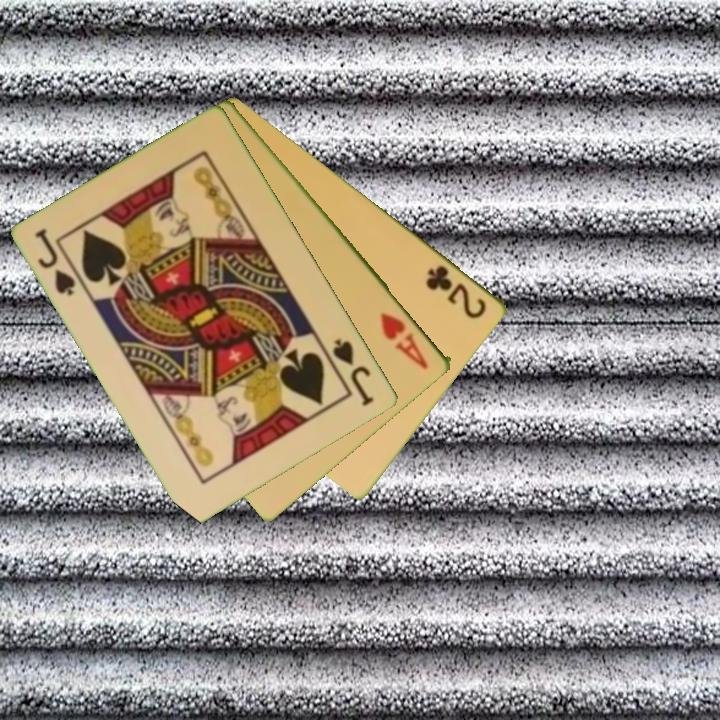2c: (423, 261, 490, 322)
Ah: (377, 308, 432, 372)
Js: (32, 224, 80, 300), (329, 335, 377, 409)
